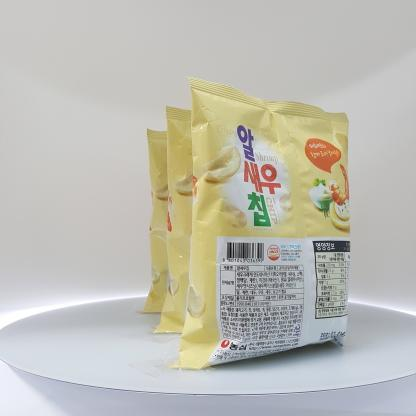Plastic Packaging: (140, 63, 360, 377)
